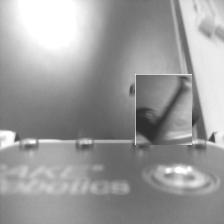Door Handle: (132, 77, 195, 142)
